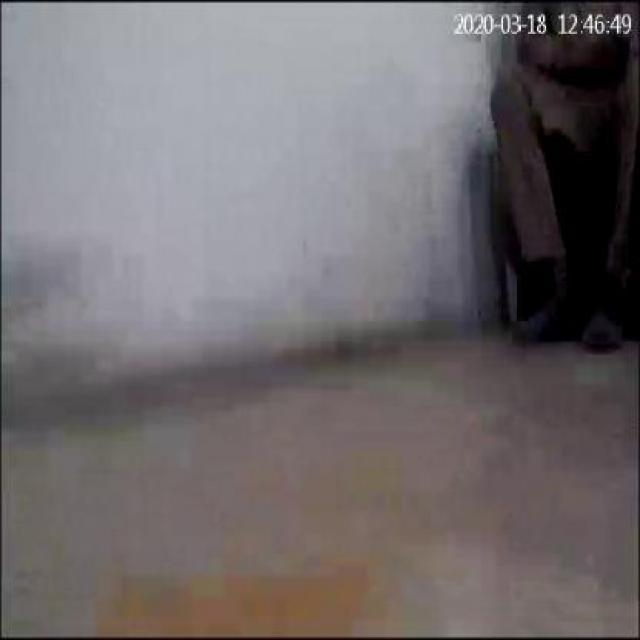spill: (91, 554, 384, 634)
